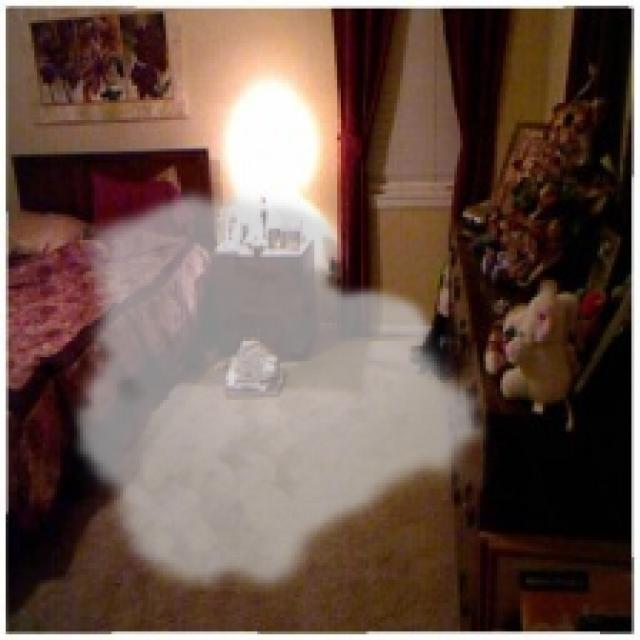Smoke: (68, 186, 494, 603)
